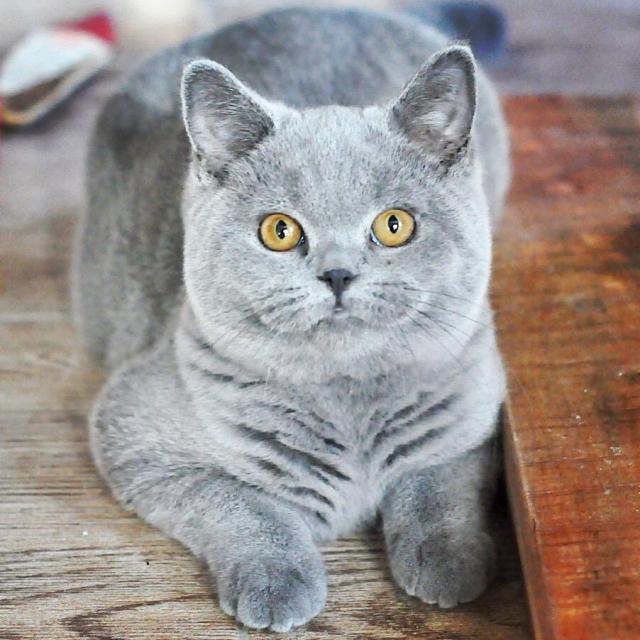british shorthair: (32, 32, 603, 625)
